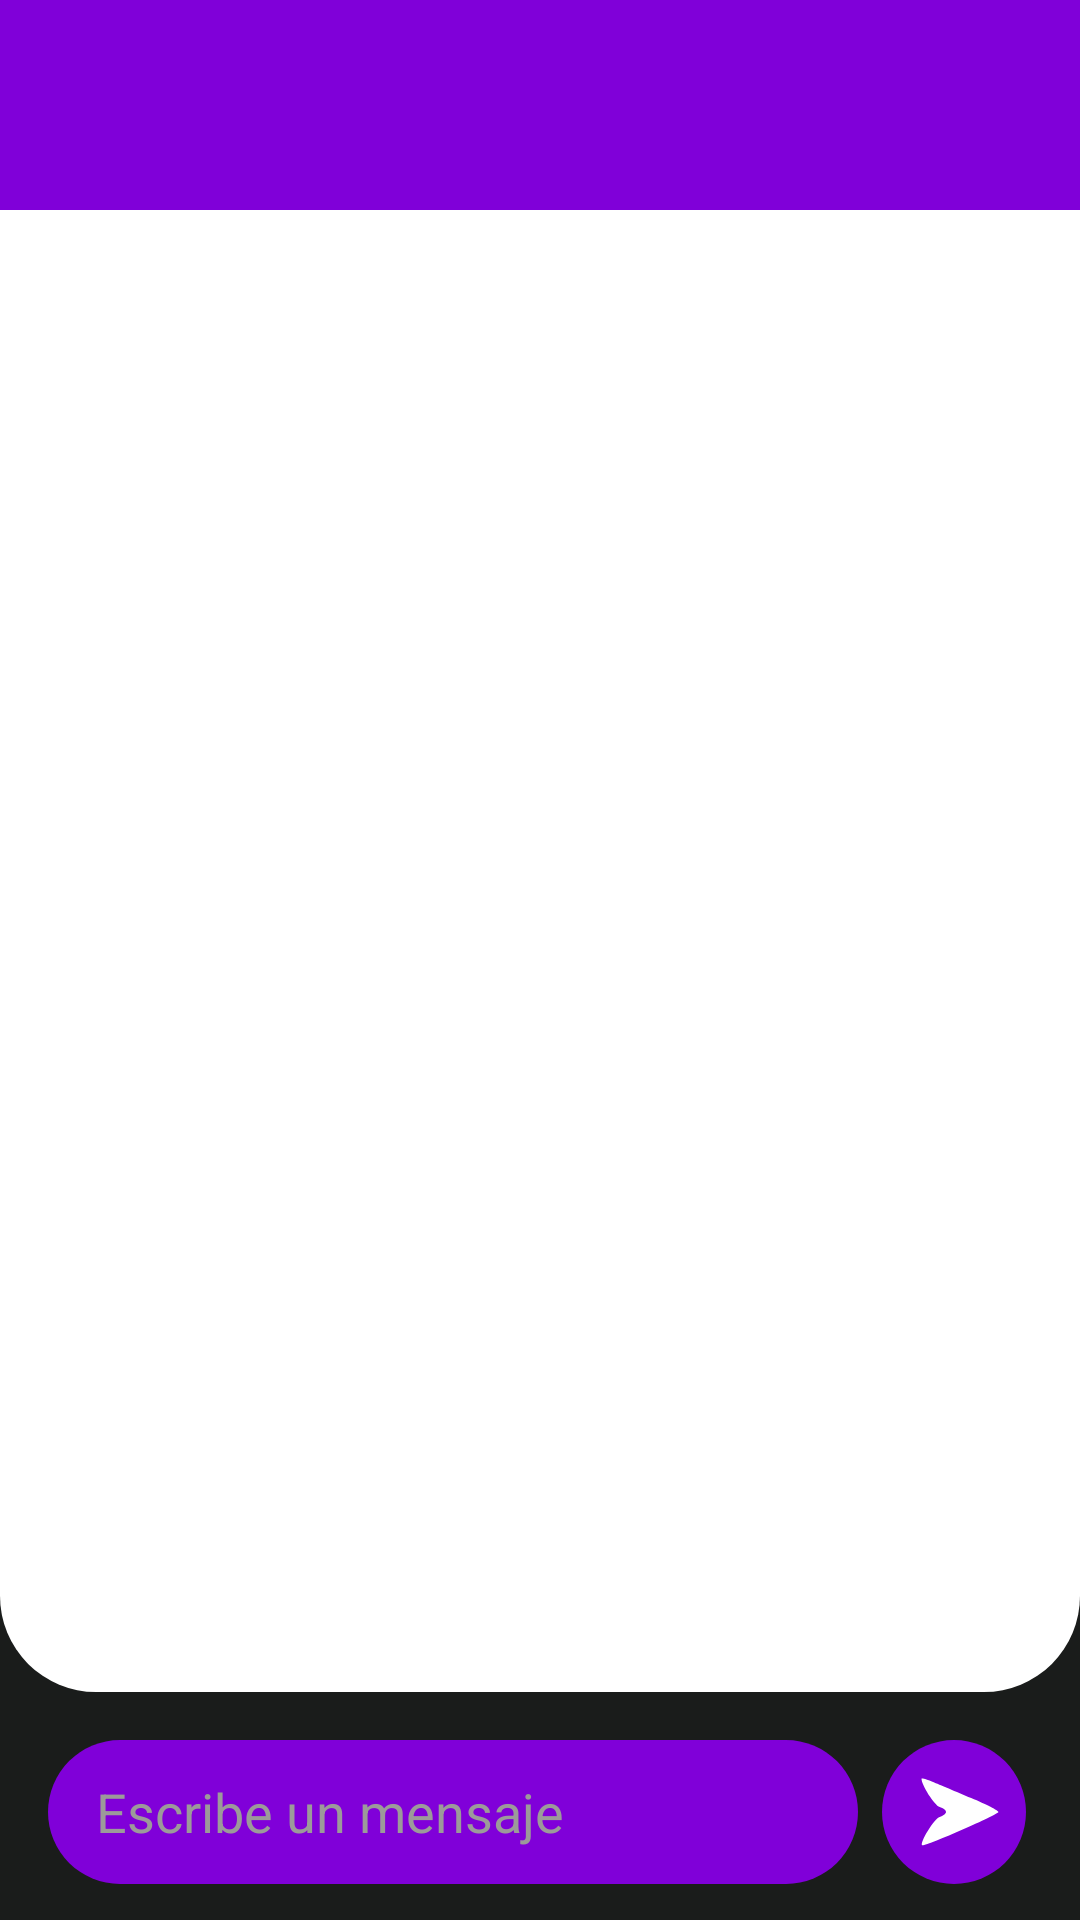

Locate icon controls on the screen. Image size 1080px×1920px, boxes as region(x1, y1, x2, y2).
send: region(894, 1740, 1026, 1884)
